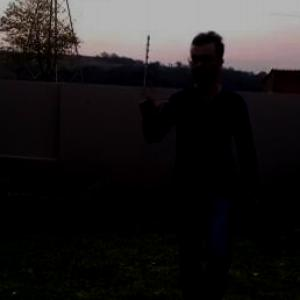land_hand: (139, 71, 178, 119)
